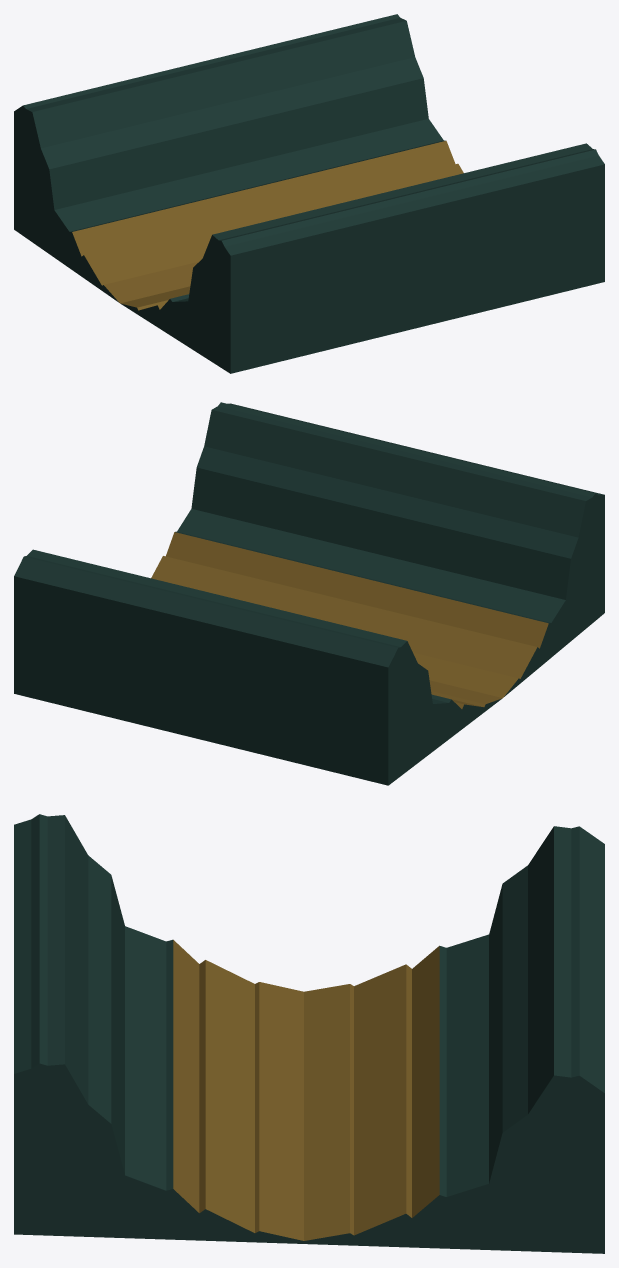
The model's file is Pit Tile Final Middle.fbx.
3 renders of one model, top to bottom at view 1: azimuth 30°, elevation 25°; view 2: azimuth 150°, elevation 25°; view 3: azimuth 270°, elevation 25°, orthographic. The views are drawn at different scales.
Parts seen in each view (by area): view 1: Middle Pit Tile; view 2: Middle Pit Tile; view 3: Middle Pit Tile.
Part boxes in pixels (bbox=[...]): Middle Pit Tile: bbox=[14, 14, 604, 373]; Middle Pit Tile: bbox=[14, 402, 604, 785]; Middle Pit Tile: bbox=[14, 814, 604, 1253].
Bounding box in the file's own units: 202 × 71.52 × 200.
